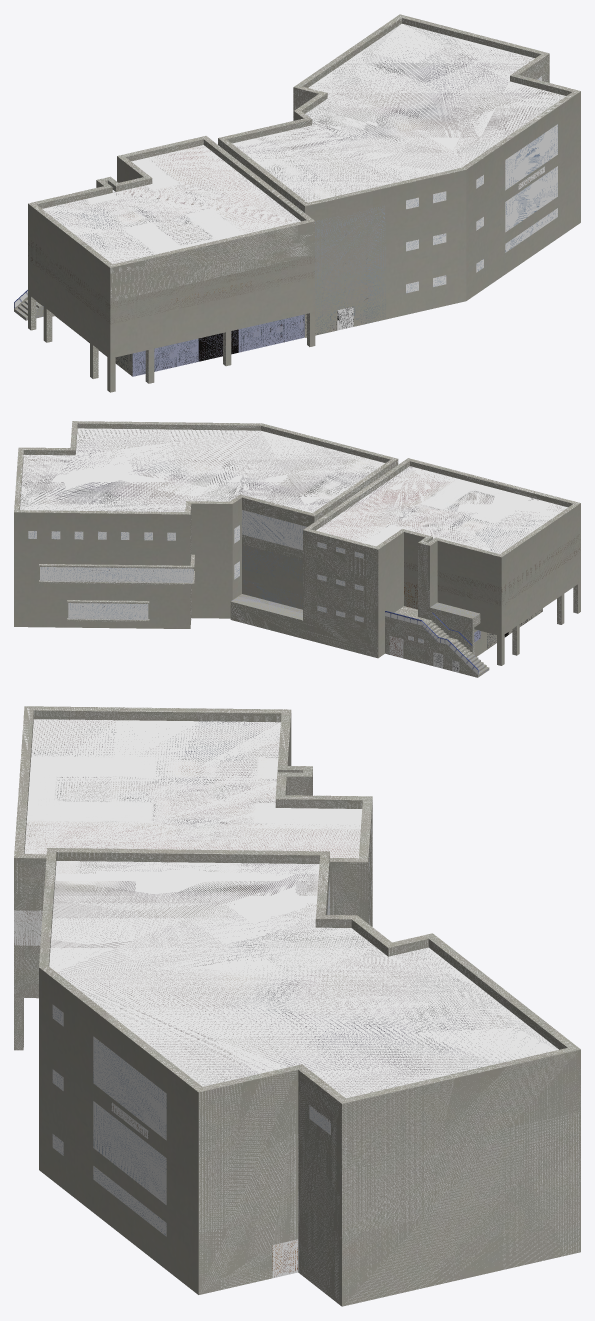
Rendered from final_biblio_cafe.fbx.
3 renders of one model, top to bottom at view 1: azimuth 30°, elevation 25°; view 2: azimuth 150°, elevation 25°; view 3: azimuth 270°, elevation 25°, orthographic. The views are drawn at different scales.
Visible parts, largest first — view 1: Model; view 2: Model; view 3: Model.
Boxes of the visible parts, <box> form: Model: <box>14,14,580,392</box>; Model: <box>14,421,580,677</box>; Model: <box>14,706,580,1306</box>.
Size of the model in its own units: 50.06 by 11.6 by 29.39.
